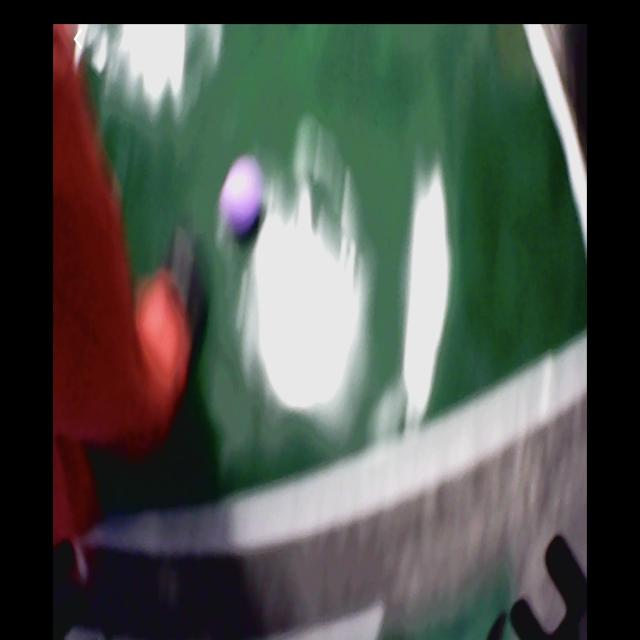ball: (227, 162, 262, 227)
